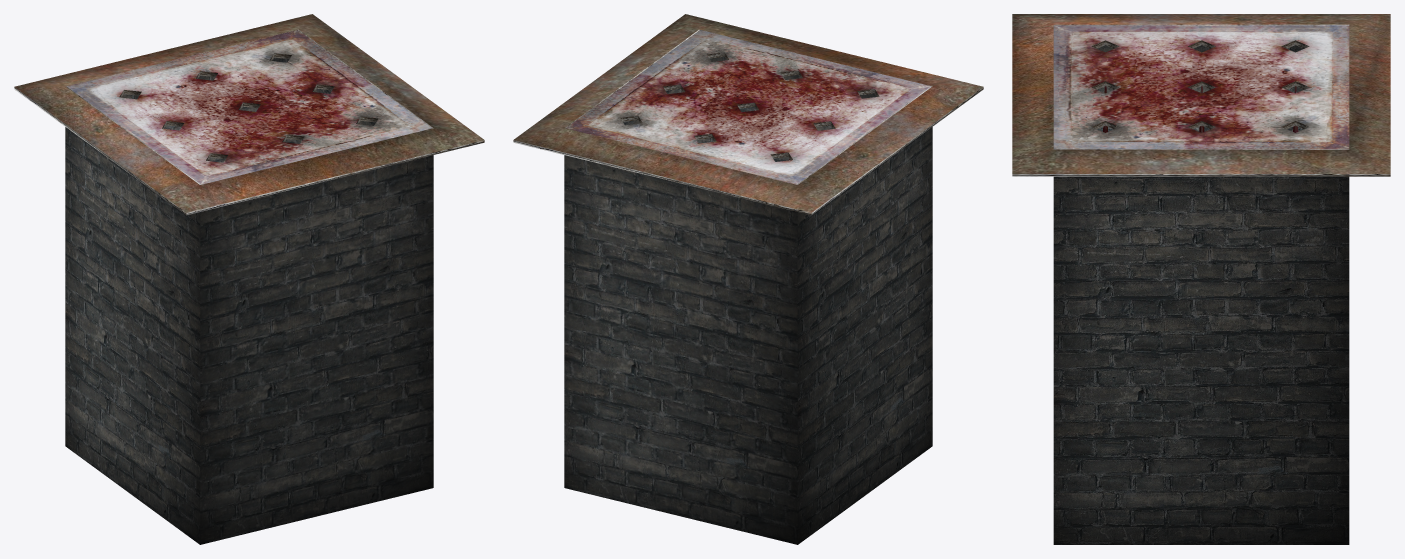
Rendered from anitrap3.fbx.
3 views of the same model, side by side, from view 1: azimuth 30°, elevation 25°; view 2: azimuth 150°, elevation 25°; view 3: azimuth 270°, elevation 25° (orthographic). The views are drawn at different scales.
Visible parts, largest first — view 1: tramp3, tap; view 2: tramp3, tap; view 3: tramp3, tap.
Boxes of the visible parts, bbox=[...] form: tramp3: bbox=[14, 14, 484, 544]; tap: bbox=[66, 30, 431, 184]; tramp3: bbox=[513, 14, 983, 544]; tap: bbox=[566, 30, 931, 184]; tramp3: bbox=[1012, 14, 1390, 544]; tap: bbox=[1053, 25, 1349, 149].
Bounding box in the file's own units: 10.62 × 12.24 × 10.62.
